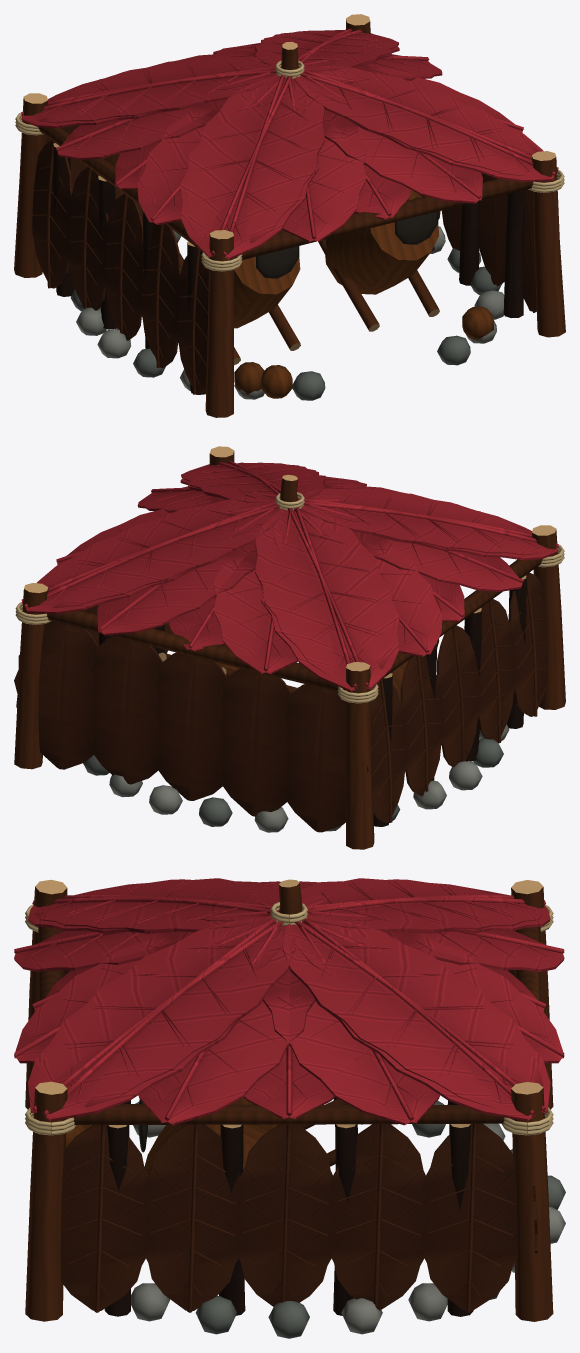
The picture shows the model from 3 angles, top to bottom: view 1: azimuth 30°, elevation 25°; view 2: azimuth 150°, elevation 25°; view 3: azimuth 270°, elevation 25°; orthographic projection. The views are drawn at different scales.
Parts seen in each view (by area): view 1: canopy-bombardier-workshop · evaluated preview mesh; view 2: canopy-bombardier-workshop · evaluated preview mesh; view 3: canopy-bombardier-workshop · evaluated preview mesh.
Boxes of the visible parts, x1,y1,x2,y2 form: canopy-bombardier-workshop · evaluated preview mesh: (14, 14, 565, 417); canopy-bombardier-workshop · evaluated preview mesh: (14, 446, 565, 849); canopy-bombardier-workshop · evaluated preview mesh: (14, 878, 565, 1338).
Size of the model in its own units: 6.83 by 4.64 by 6.73.
10 materials, 5 textured.
